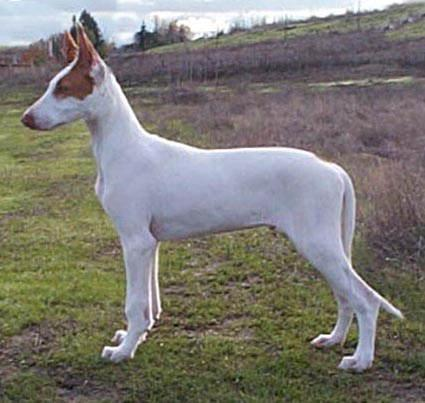Ibizan_hound: (17, 21, 405, 372)
